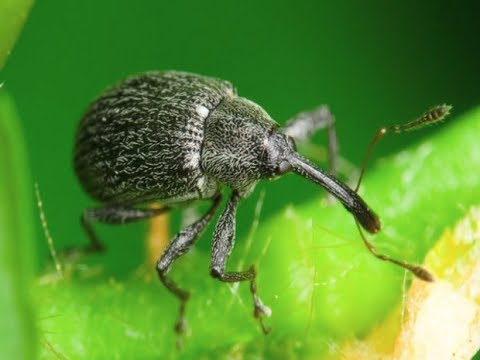dolgonosik: (66, 74, 452, 340)
